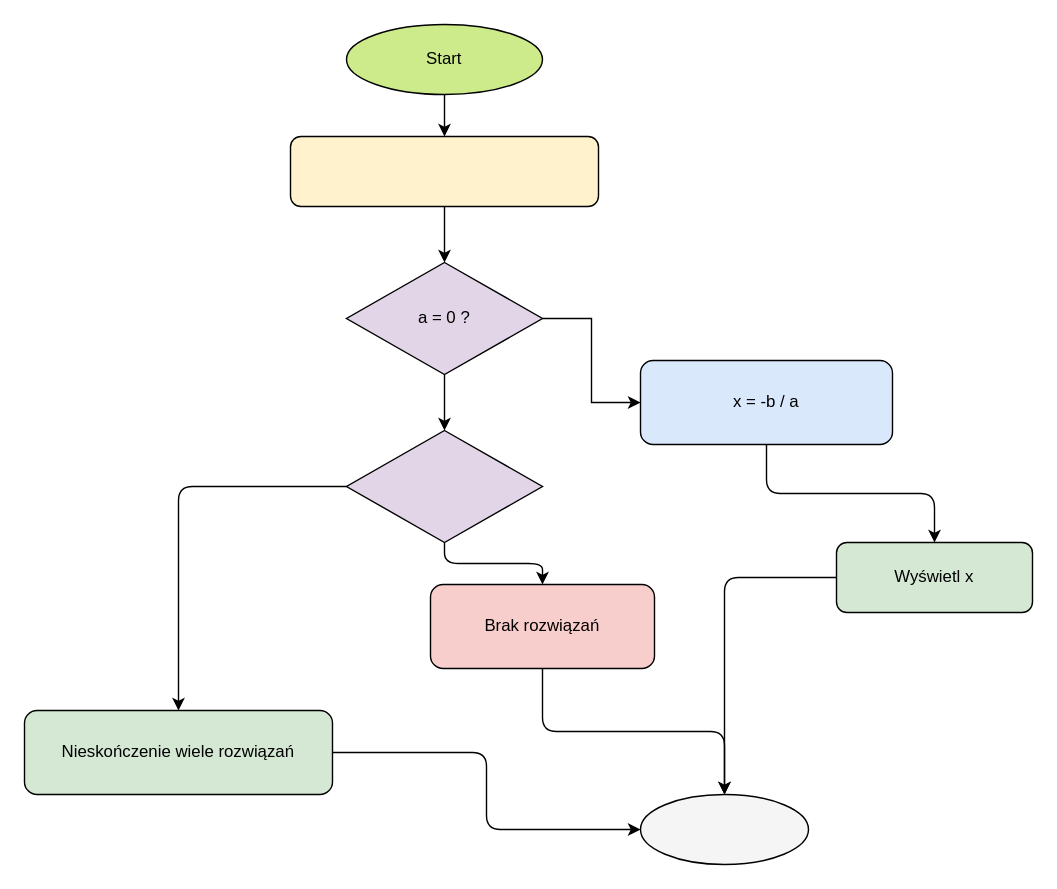
The diagram is 1057 pixels wide and 889 high, and some of its shapes have lost their labels. The centre of each missing label's shape, as x and y in pixels:
b = 0 ?: (443,485)
Koniec: (723,828)
Wczytaj a, b: (443,170)
